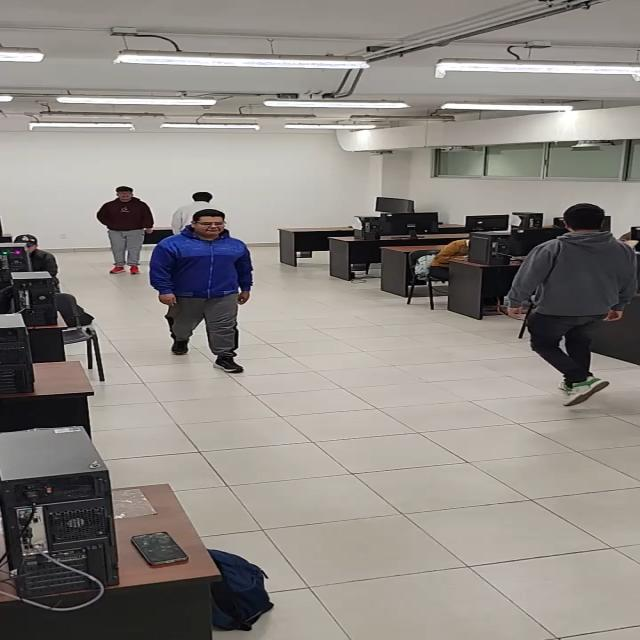Persona: (522, 197, 623, 408), (153, 206, 260, 374), (97, 188, 148, 280), (177, 186, 207, 222)
